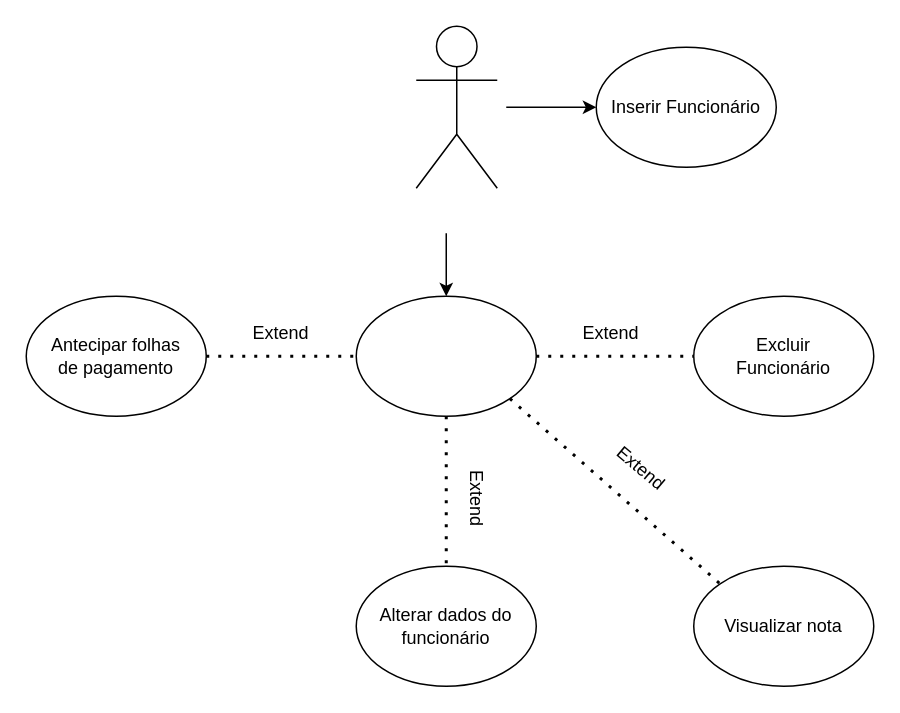
Some shapes in this 900 by 713 pixel diagram are drawn without their labels. Here are the shapes that lost their labels. From the top down, the centre of each, then its label:
At point 456,106: "Actor".
At point 445,355: "Pesquisar Funcionário".
